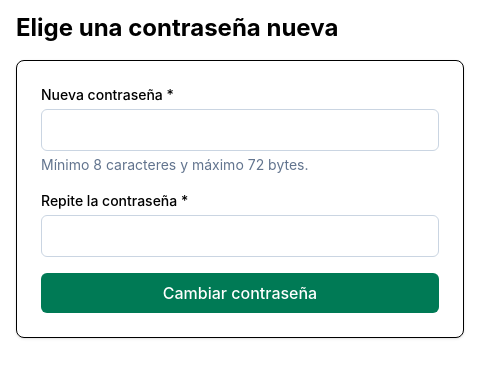
ResetPasswordPage › no envía nada si las contraseñas no coinciden
Type "nuevaclave1" into the password field labelled "Nueva contraseña *". click: (240, 130)
box: [41, 109, 439, 151]
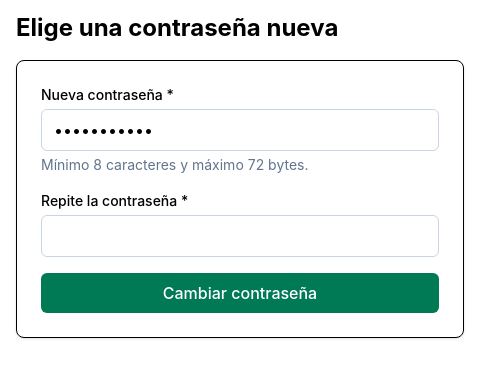
Type "otraclave22" into the password field labelled "Repite la contraseña *". click: (240, 236)
box: [41, 215, 439, 257]
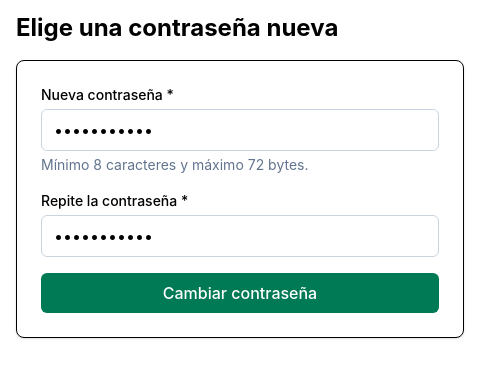
Click the button "Cambiar contraseña". click: (240, 293)
box: [41, 273, 439, 313]
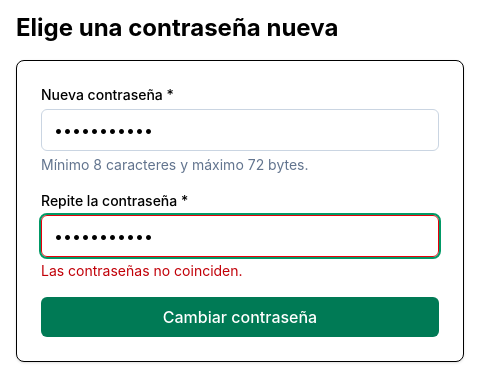
Check: the text "Las contraseñas no coinciden." is shown, box [41, 262, 243, 279]
